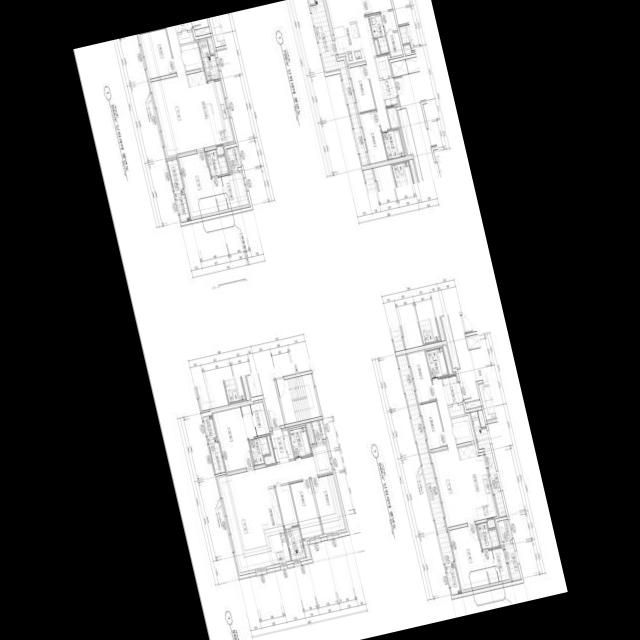background: (73, 0, 567, 640)
space_balconi: (396, 354, 453, 567), (310, 0, 368, 165), (470, 411, 506, 517), (198, 40, 219, 81), (284, 526, 305, 560), (504, 542, 521, 581), (207, 439, 224, 474), (167, 158, 183, 194)
space_bedroom: (448, 524, 489, 590), (177, 151, 218, 217), (213, 406, 253, 472), (311, 474, 345, 534), (289, 479, 322, 539), (139, 28, 175, 79), (359, 110, 387, 163), (407, 350, 435, 403), (348, 64, 375, 112), (419, 401, 446, 449), (362, 0, 392, 14)
space_dressroom: (211, 172, 248, 211), (240, 401, 269, 438), (380, 10, 402, 56), (482, 547, 509, 583)
space_front: (269, 427, 288, 463), (441, 375, 462, 405), (379, 77, 397, 106), (175, 22, 192, 32)
space_kitchen: (187, 70, 234, 148), (457, 444, 496, 521), (254, 486, 290, 565), (331, 21, 365, 64)
space_living_room: (217, 444, 332, 572), (325, 0, 390, 131), (150, 25, 203, 156), (430, 378, 474, 527)
space_other: (275, 484, 298, 528), (180, 42, 203, 71), (451, 415, 473, 444), (226, 146, 241, 171), (374, 55, 390, 78), (282, 429, 294, 459), (263, 435, 275, 464), (497, 519, 512, 542), (311, 419, 325, 443), (442, 345, 452, 374), (386, 107, 398, 128), (448, 404, 464, 417), (177, 31, 193, 44), (464, 399, 481, 409), (306, 422, 314, 443), (194, 26, 210, 36), (477, 409, 485, 427), (302, 540, 309, 557), (373, 39, 380, 54), (207, 38, 213, 54), (487, 519, 495, 528), (216, 146, 224, 155), (308, 0, 314, 4)
space_outdoor_room: (446, 567, 461, 595), (175, 194, 190, 222), (202, 415, 216, 439)
space_staircase: (275, 373, 320, 424)
space_toilet: (368, 13, 388, 54), (288, 426, 311, 458), (425, 347, 448, 378), (381, 128, 404, 159), (476, 522, 499, 550), (205, 149, 228, 177), (248, 436, 269, 465)
